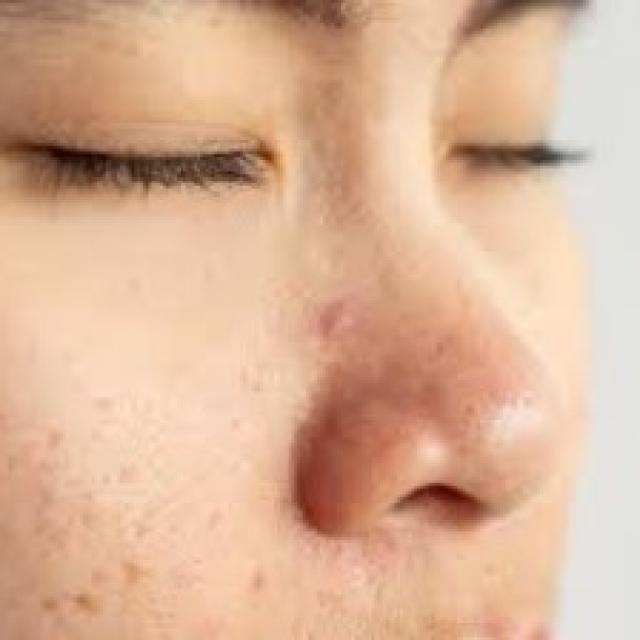Acne: (23, 409, 262, 640), (312, 298, 371, 360)
